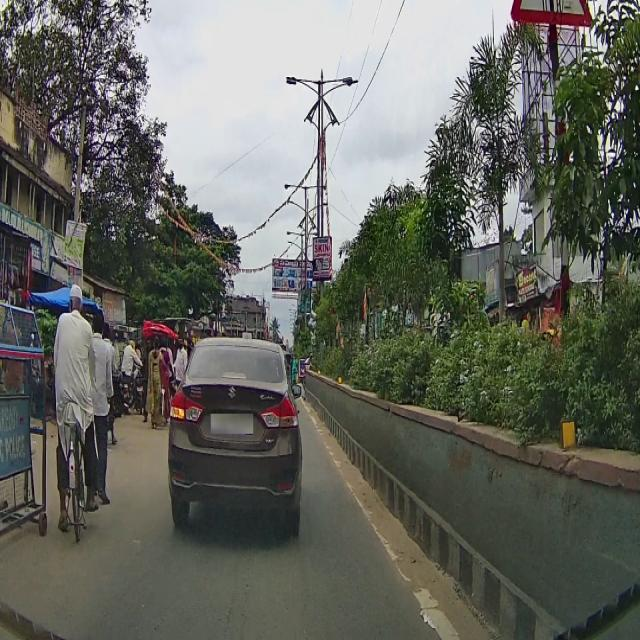barrier ahead at: (0, 305, 51, 539)
bicycle ahead at: (65, 412, 89, 539)
car ahead at: (167, 336, 304, 530)
